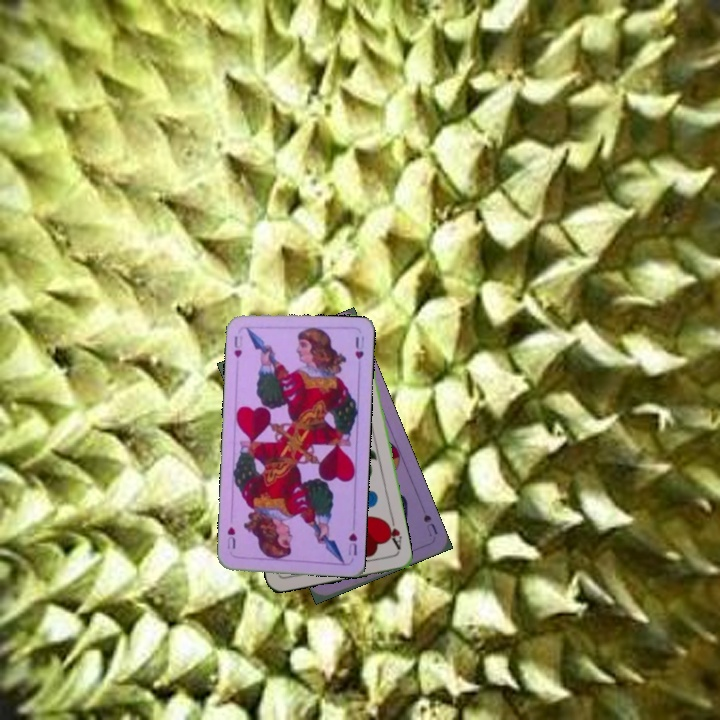HA: (381, 513, 404, 552)
HU: (344, 529, 360, 558), (230, 331, 245, 360)
SU: (419, 510, 440, 539)
